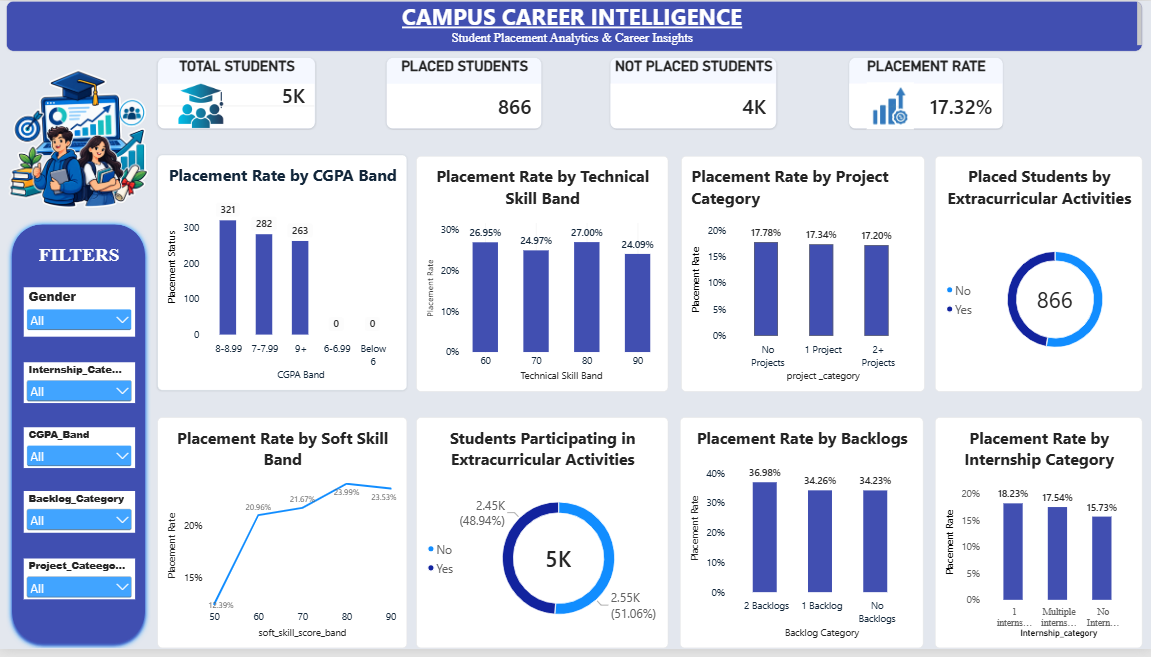

The dashboard page shown, as its layout file describes it:
{"tool":"powerbi","page":{"name":"Page 1","canvas":[1920,1080],"ordinal":0},"visuals":[{"type":"cardVisual","fields":{"Data":["Cleaned_Data.Placement Rate"]},"box":[1566.7,80.5,349,85.4],"z":0},{"type":"cardVisual","fields":{"Data":["Cleaned_Data.Total Students"]},"box":[96.7,76.2,329.4,85.4],"z":1000},{"type":"cardVisual","fields":{"Data":["Cleaned_Data.Placed Students"]},"box":[558.8,78.1,305,87.8],"z":2000},{"type":"cardVisual","fields":{"Data":["Cleaned_Data.Not Placed Students"]},"box":[1078.6,78.1,322.1,85.4],"z":3000},{"type":"clusteredColumnChart","title":"Placement Rate by CGPA Band","fields":{"Category":["Cleaned_Data.cgpa_band"],"Y":["Sum(Cleaned_Data.placement_status)"]},"box":[31.7,285.5,461.2,392.9],"z":4000},{"type":"clusteredColumnChart","title":"Placement Rate by Internship Category","fields":{"Category":["Cleaned_Data.Internship_category"],"Y":["Cleaned_Data.Placement Rate"]},"box":[514.9,695.5,490.5,385.6],"z":5000},{"type":"clusteredColumnChart","title":"Placement Rate by Project Category","fields":{"Category":["Cleaned_Data.project _category"],"Y":["Cleaned_Data.Placement Rate"]},"box":[1034.7,285.5,456.3,392.9],"z":6000},{"type":"clusteredColumnChart","fields":{"Category":["Cleaned_Data.technical_skill_band 2"],"Y":["Cleaned_Data.Placement Rate"]},"box":[514.9,285.5,490.5,392.9],"z":7000},{"type":"clusteredColumnChart","title":"Placement Rate by Backlogs","fields":{"Category":["Cleaned_Data.Backlog Category"],"Y":["Cleaned_Data.Placement Rate"]},"box":[31.7,693,461.2,385.6],"z":8000},{"type":"donutChart","title":"Students Participating in Extracurricular Activities","fields":{"Category":["Cleaned_Data.extracurricular_activities"],"Y":["Sum(Cleaned_Data.student_id)"]},"box":[1034.7,695.5,456.3,385.6],"z":9000},{"type":"donutChart","title":"Placed Students by Extracurricular Activities","fields":{"Category":["Cleaned_Data.extracurricular_activities"],"Y":["Cleaned_Data.Placed Students"]},"box":[1508.1,285.5,400.2,392.9],"z":10000},{"type":"lineChart","title":"Placement Rate by Soft Skill Band","fields":{"Category":["Cleaned_Data.soft_skill_score_band"],"Y":["Cleaned_Data.Placement Rate"]},"box":[1513,695.5,395.3,385.6],"z":11000},{"type":"slicer","fields":{"Values":["Cleaned_Data.gender"]},"box":[48.8,161.1,173.3,109.8],"z":12000},{"type":"slicer","fields":{"Values":["Cleaned_Data.cgpa_band"]},"box":[668.6,183,244,68.3],"z":13000},{"type":"slicer","fields":{"Values":["Cleaned_Data.Internship_category"]},"box":[273.3,183,270.9,68.3],"z":14000},{"type":"slicer","fields":{"Values":["Cleaned_Data.project _category"]},"box":[1359.2,165.9,148.9,68.3],"z":15000},{"type":"slicer","fields":{"Values":["Cleaned_Data.Backlog Category"]},"box":[1017.6,170.8,273.3,65.9],"z":16000},{"type":"textbox","box":[0,0,1915.6,78.1],"z":17000}]}

Visuals, with their boxes in screenshot pixels (x1, y1, x2, y2), scaled from the page's 1920x1080 canvas onto the 1151x657 screenshot:
cardVisual - Cleaned_Data.Placement Rate: 939,49,1148,101
cardVisual - Cleaned_Data.Total Students: 58,46,255,98
cardVisual - Cleaned_Data.Placed Students: 335,48,518,101
cardVisual - Cleaned_Data.Not Placed Students: 647,48,840,99
"Placement Rate by CGPA Band" clusteredColumnChart: 19,174,295,413
"Placement Rate by Internship Category" clusteredColumnChart: 309,423,603,656
"Placement Rate by Project Category" clusteredColumnChart: 620,174,894,413
clusteredColumnChart - Cleaned_Data.technical_skill_band 2 x Cleaned_Data.Placement Rate: 309,174,603,413
"Placement Rate by Backlogs" clusteredColumnChart: 19,422,295,656
"Students Participating in Extracurricular Activities" donutChart: 620,423,894,656
"Placed Students by Extracurricular Activities" donutChart: 904,174,1144,413
"Placement Rate by Soft Skill Band" lineChart: 907,423,1144,656
slicer - Cleaned_Data.gender: 29,98,133,165
slicer - Cleaned_Data.cgpa_band: 401,111,547,153
slicer - Cleaned_Data.Internship_category: 164,111,326,153
slicer - Cleaned_Data.project _category: 815,101,904,142
slicer - Cleaned_Data.Backlog Category: 610,104,774,144
textbox: 0,0,1148,48
